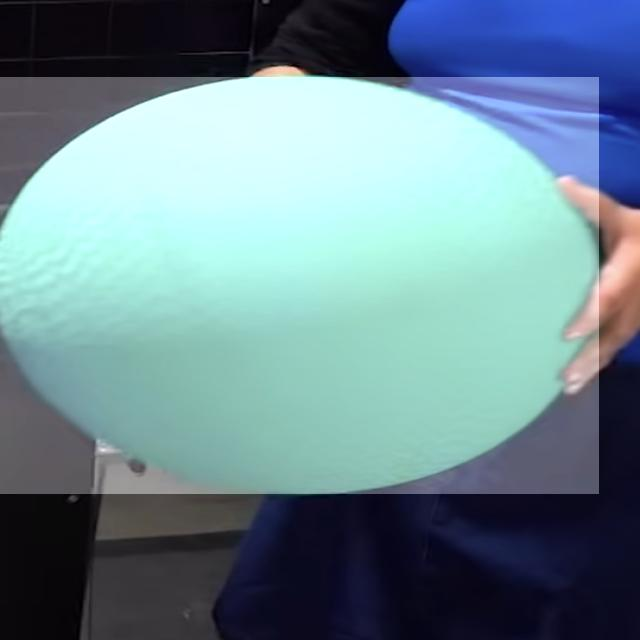Algae: (0, 77, 599, 494)
